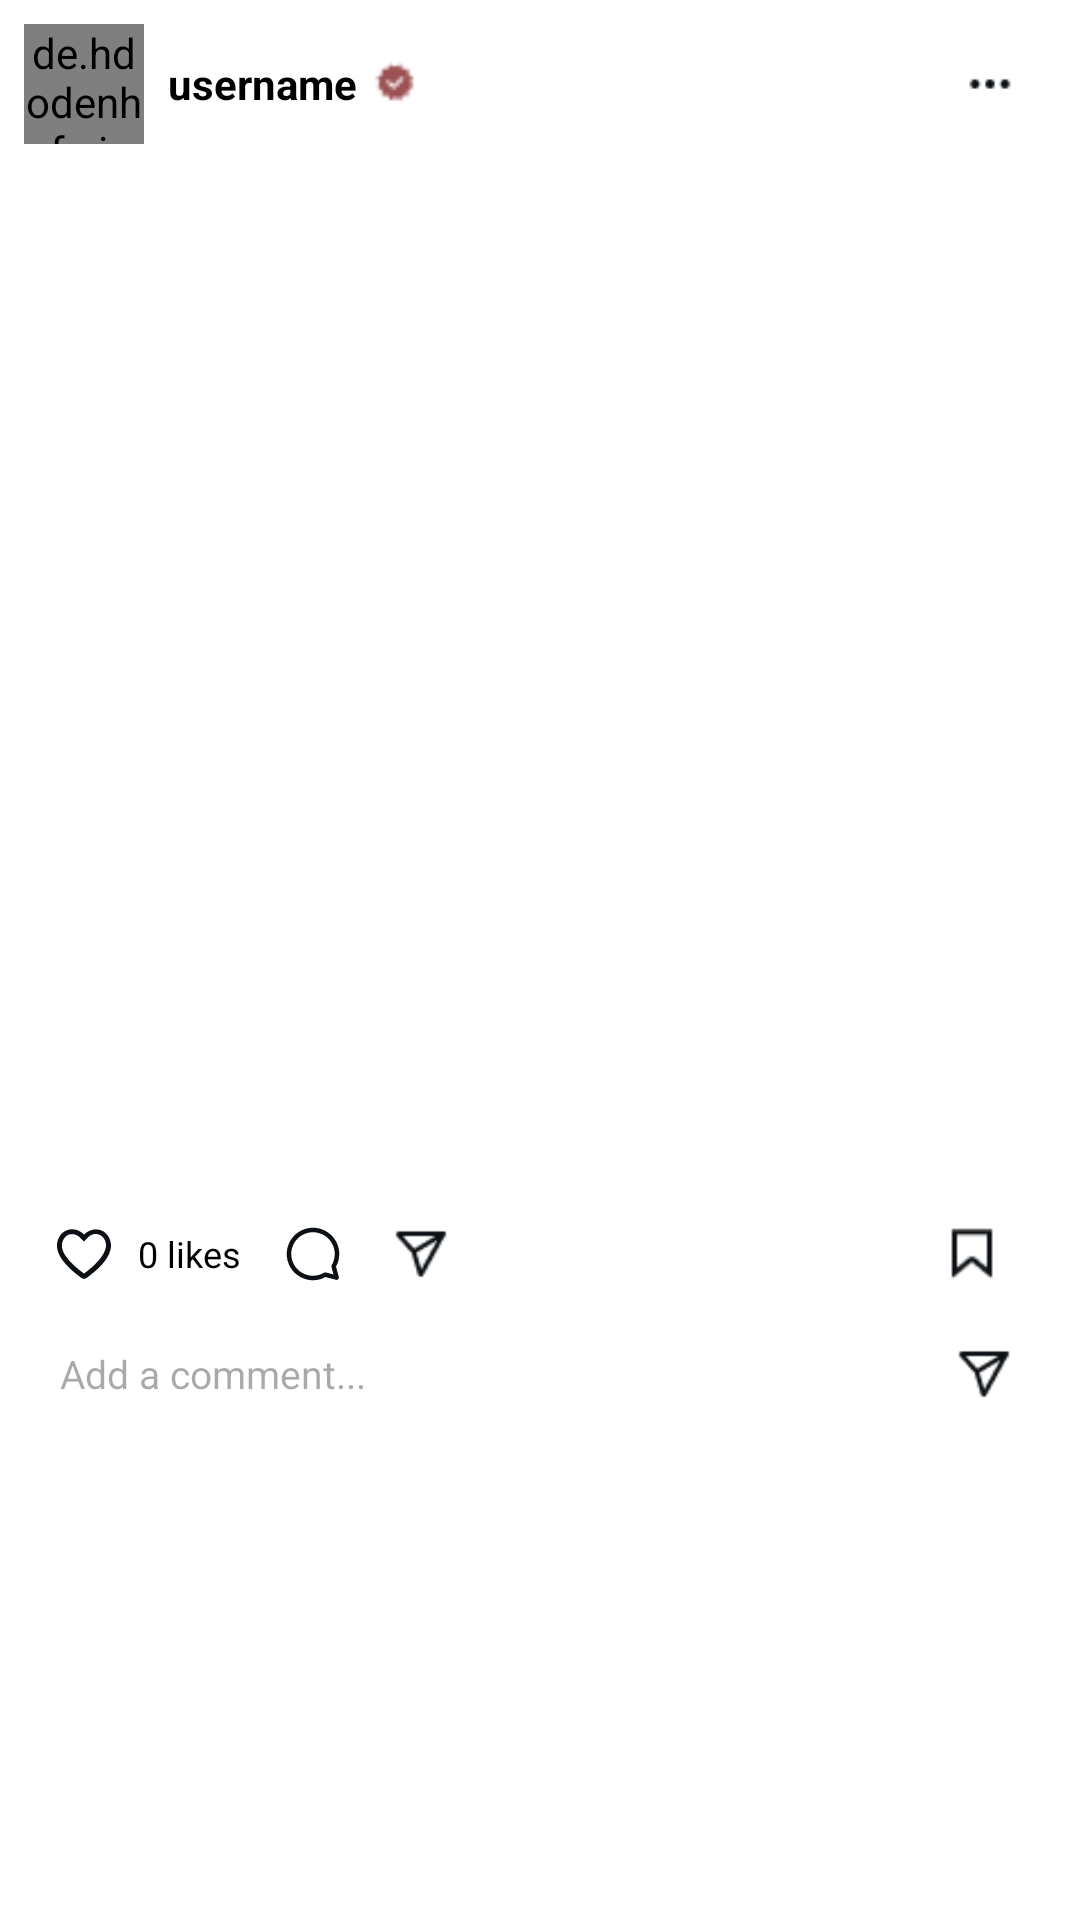

Icons on this 1080 × 1920 Android screen, each with its box as (x1, y1, x2, y2):
badge: (376, 63, 414, 101)
options: (969, 79, 1011, 89)
save: (951, 1228, 993, 1279)
